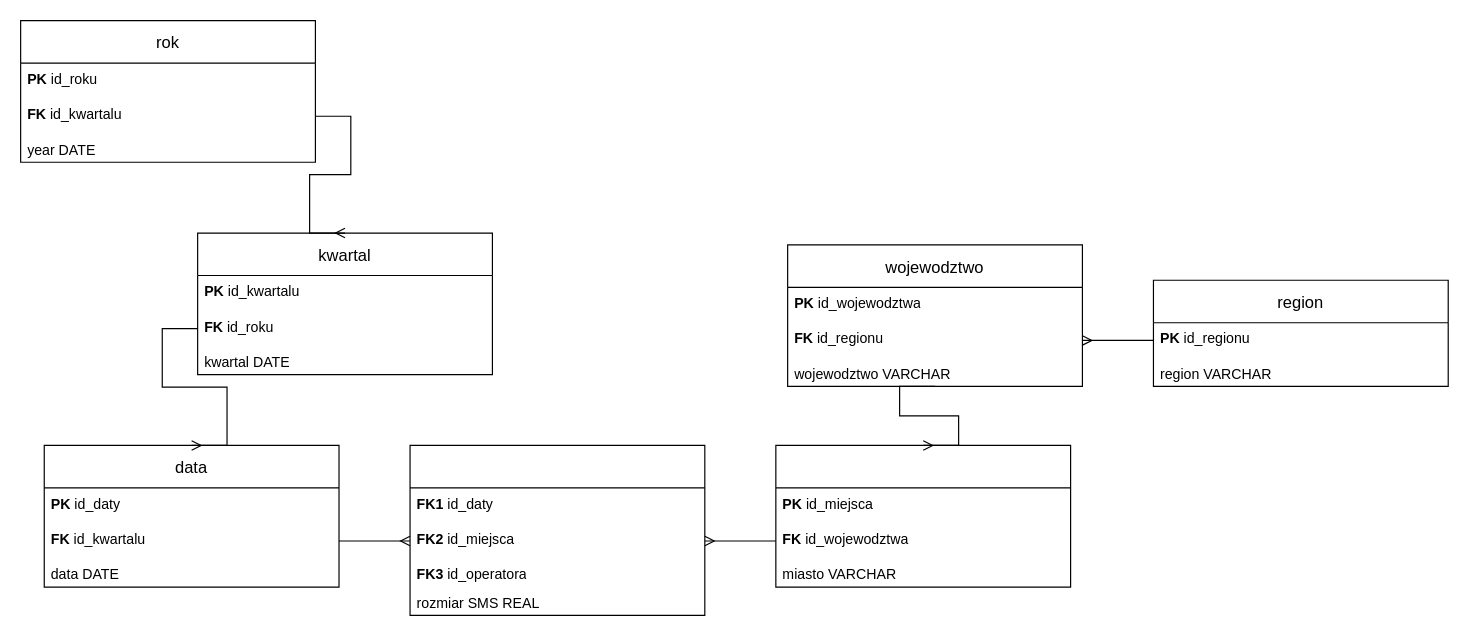
This 1469x640 diagram has some shape labels left out. The box of each missing label's shape, as (x1, y1, x2, y2) in pixels:
miejsce: (775, 444, 1071, 587)
wyslane_sms: (409, 444, 705, 615)
